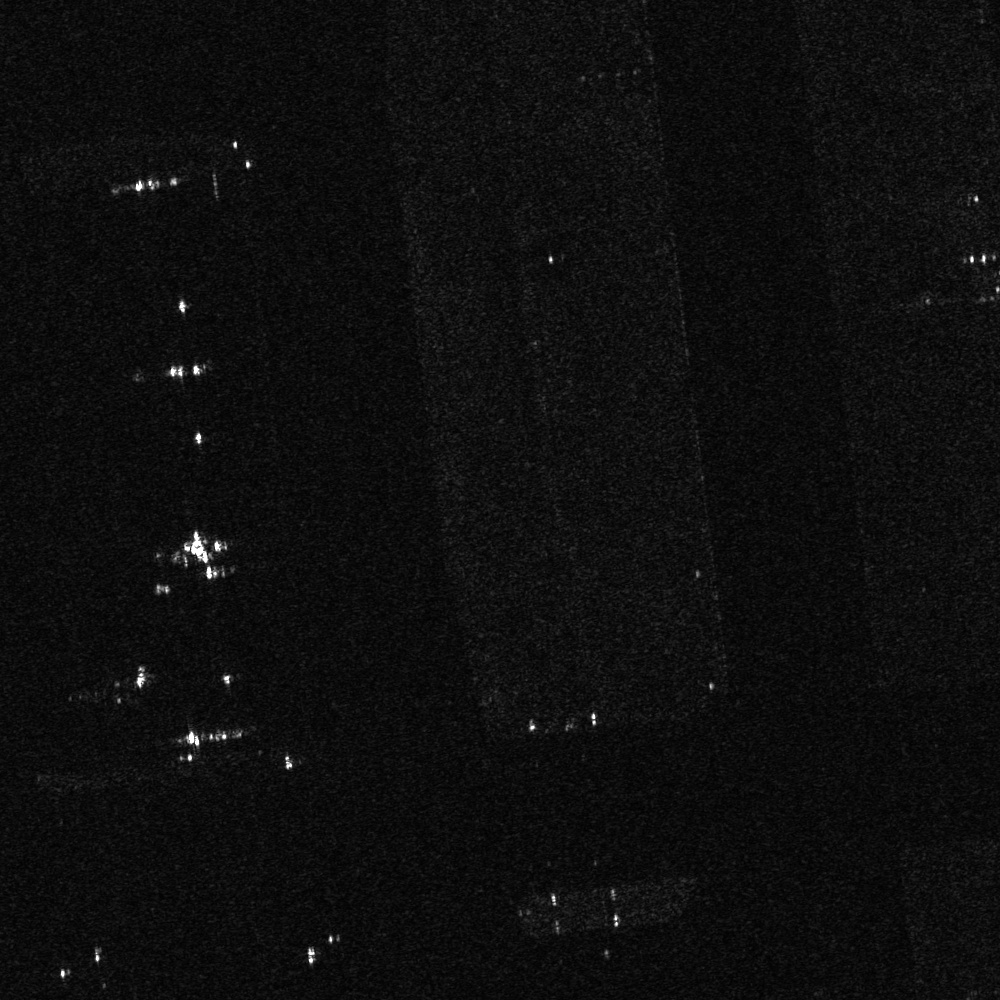A220: (171, 523, 233, 582)
